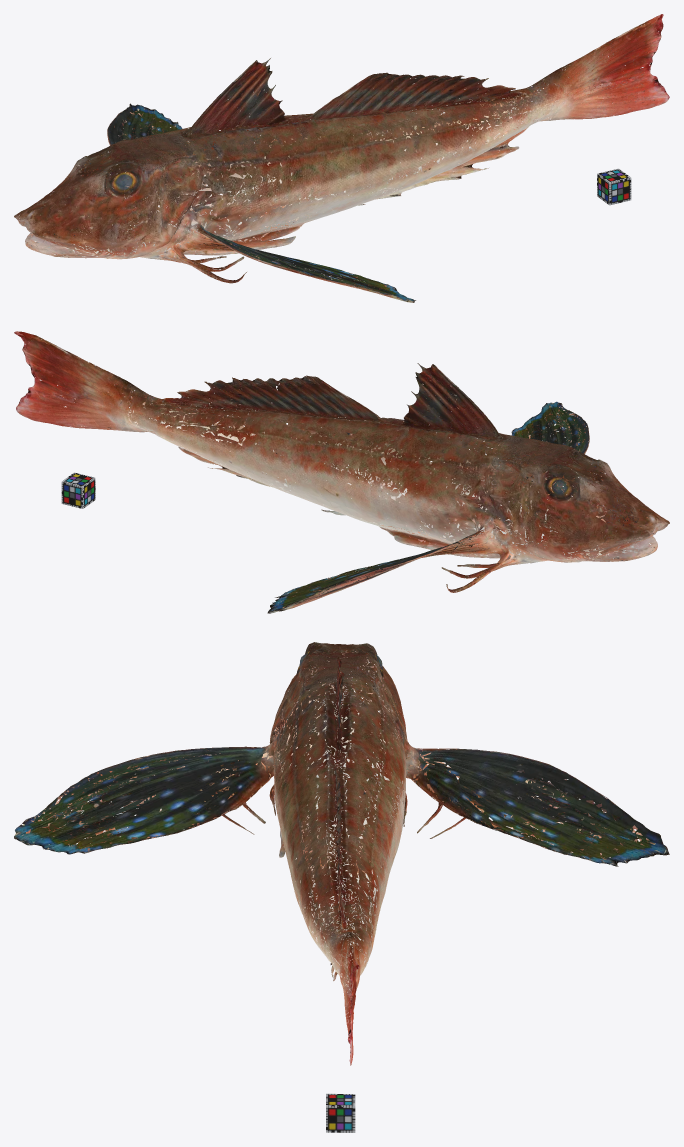
The model's file is scan_gurnard.glb.
3 views of the same model, one above another, from view 1: azimuth 30°, elevation 25°; view 2: azimuth 150°, elevation 25°; view 3: azimuth 270°, elevation 25° (orthographic). The views are drawn at different scales.
Parts seen in each view (by area): view 1: Object_6, Object_12, Object_4; view 2: Object_6, Object_12, Object_4; view 3: Object_6, Object_12, Object_4.
Part boxes in pixels (x1,y1,x2,y2): Object_6: (19, 14, 669, 302); Object_12: (14, 14, 669, 302); Object_4: (597, 168, 631, 205); Object_6: (14, 331, 668, 612); Object_12: (14, 333, 669, 613); Object_4: (61, 472, 95, 508); Object_6: (14, 642, 669, 1065); Object_12: (15, 642, 669, 1065); Object_4: (326, 1093, 355, 1132).
Bounding box in the file's own units: 9.24 × 3.08 × 6.89.
3 materials, 3 textured.
